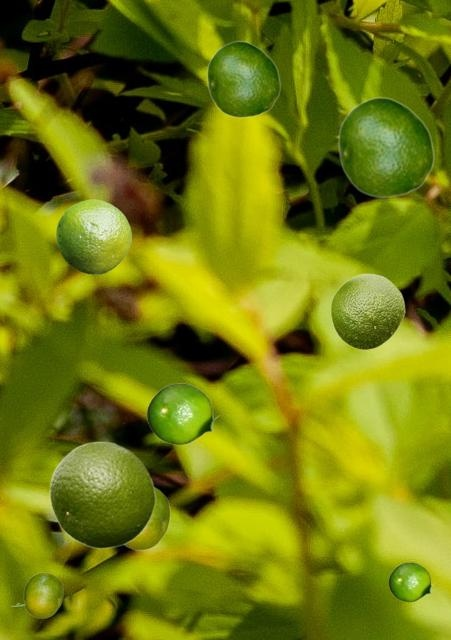calamansi: (49, 440, 155, 548), (337, 96, 434, 197), (206, 40, 280, 117), (330, 273, 404, 349), (56, 199, 130, 273), (146, 383, 220, 444), (125, 486, 169, 549), (10, 572, 62, 617), (388, 562, 435, 601)
